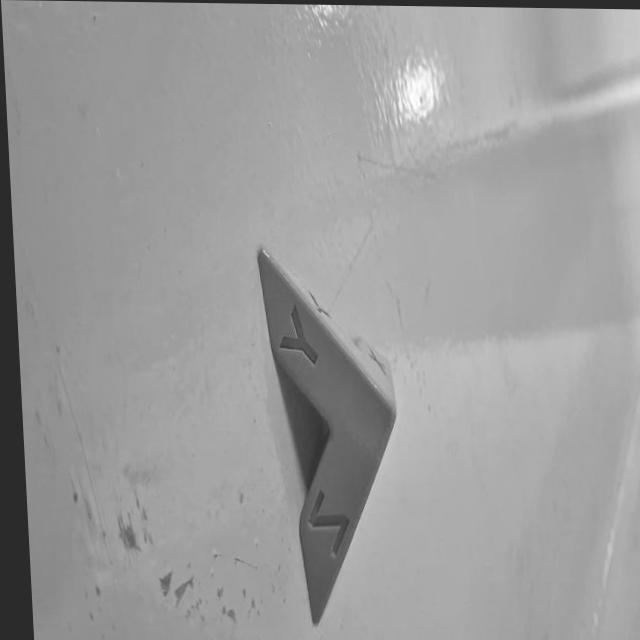eje: (248, 236, 414, 634)
